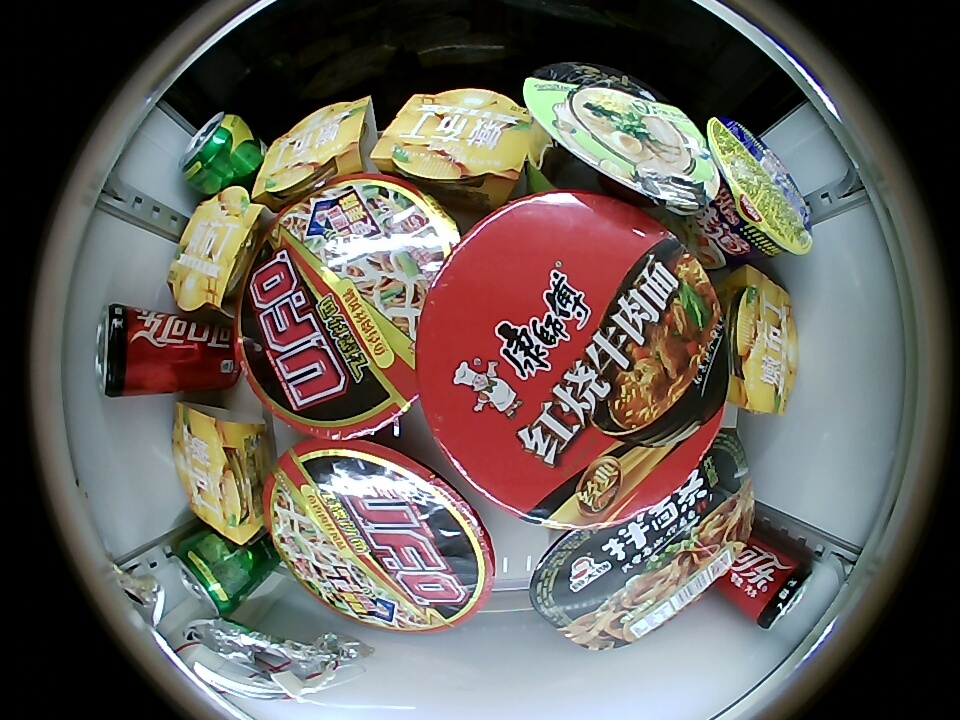buding: (372, 89, 533, 197), (172, 406, 267, 544), (254, 96, 372, 207), (168, 187, 264, 313), (722, 265, 799, 415)
gudasao: (530, 428, 756, 652)
heweidao: (706, 115, 813, 257)
hongshaoniurou: (415, 191, 730, 531)
lingdukele: (745, 544, 813, 631), (96, 304, 152, 397)
tangdaren: (521, 61, 719, 218)
ufo2: (233, 176, 454, 440), (263, 437, 496, 632)
xuebi2: (179, 111, 255, 192), (173, 535, 247, 616)
